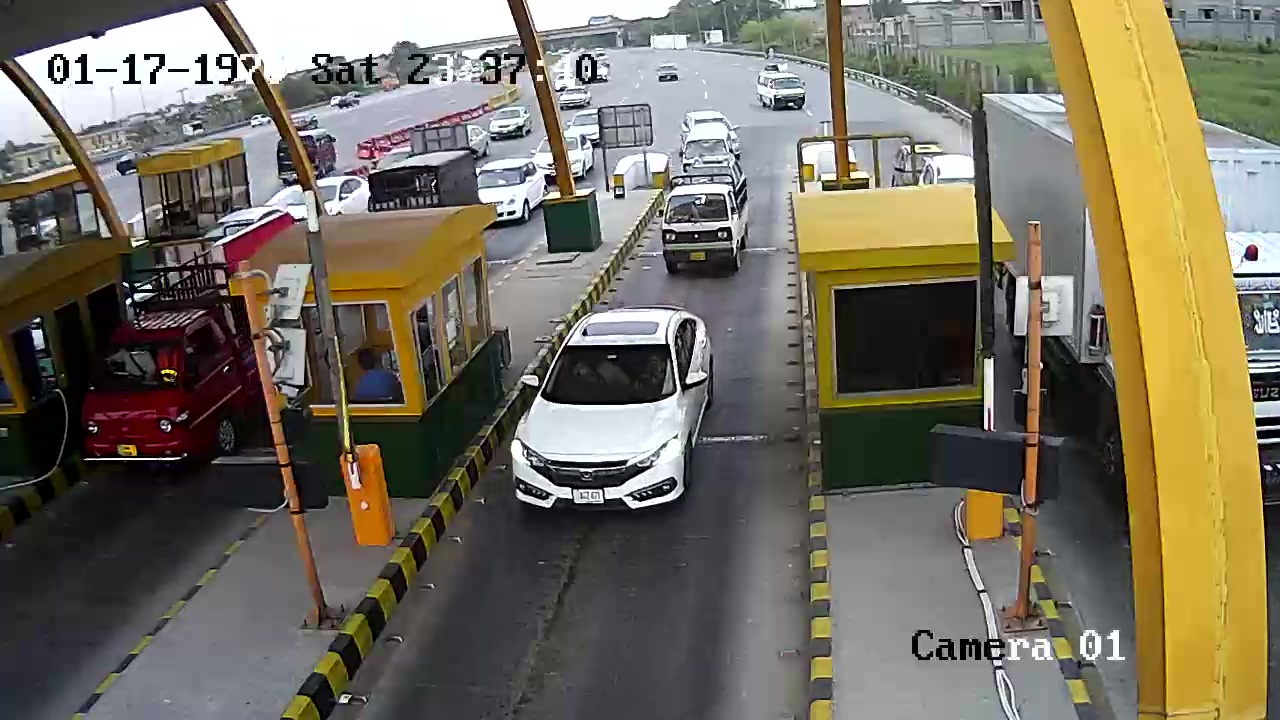F1: (504, 297, 727, 529)
